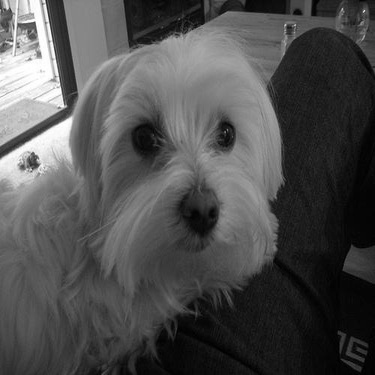dog: (1, 16, 296, 372)
